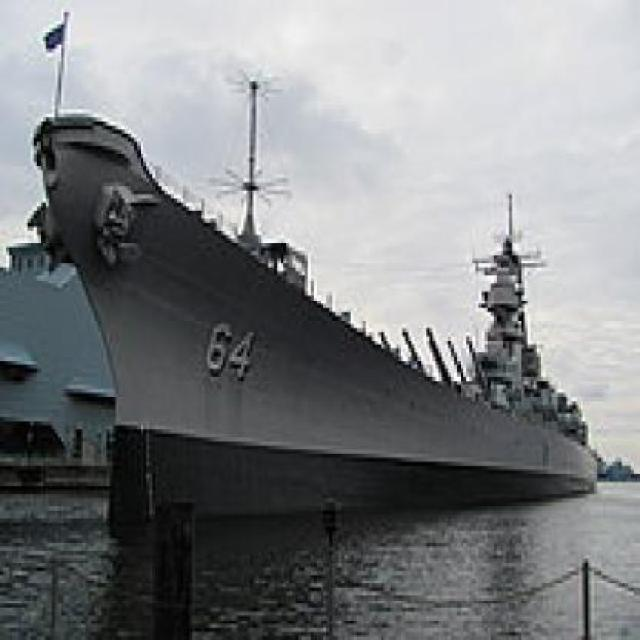warship2: (18, 79, 589, 511)
